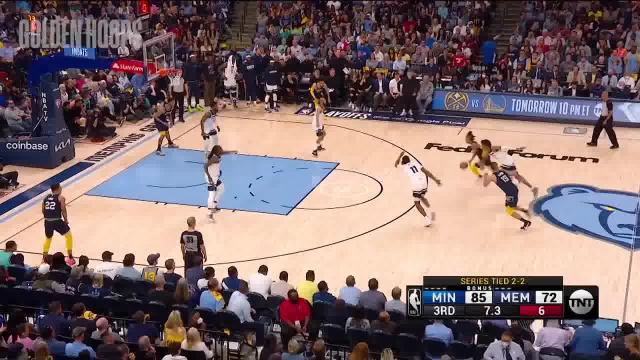ball-handler: (455, 131, 497, 188)
player: (393, 150, 439, 228), (488, 160, 538, 231), (481, 136, 541, 195), (36, 184, 77, 264), (193, 101, 229, 164), (200, 143, 232, 211), (152, 100, 182, 160), (307, 98, 332, 160), (306, 76, 332, 115)
